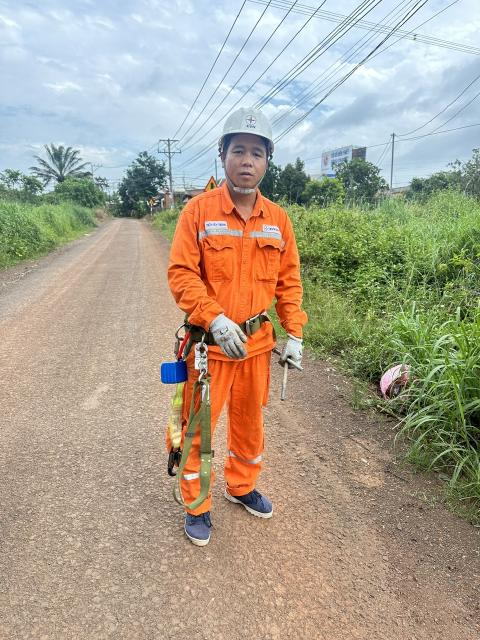gloves: (204, 308, 257, 363), (276, 332, 309, 374)
harness: (172, 309, 281, 355)
helmet: (215, 108, 289, 145)
shoes: (175, 500, 227, 545), (225, 474, 284, 510)
